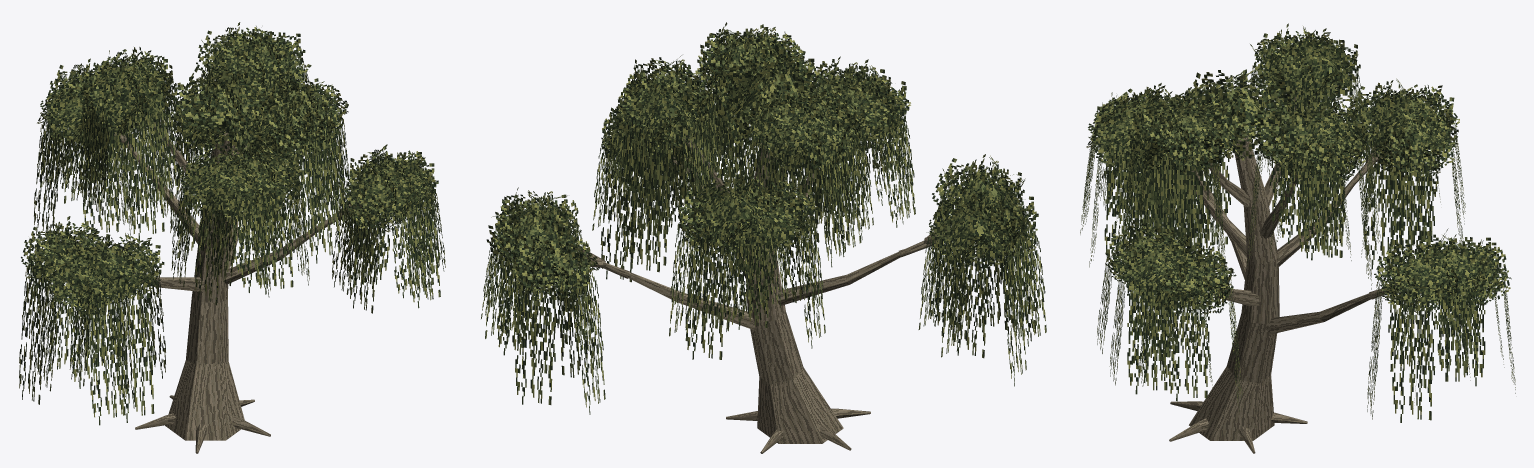
The model's file is TREE_Willow_A_LOD1.glb.
The picture shows the model from 3 angles, left to right: view 1: azimuth 30°, elevation 25°; view 2: azimuth 150°, elevation 25°; view 3: azimuth 270°, elevation 25°; orthographic projection. The views are drawn at different scales.
Parts seen in each view (by area): view 1: TREE_Willow_A_LOD1__Card, TREE_Willow_A_LOD1__Bark, TREE_Willow_A_LOD1__Foliage; view 2: TREE_Willow_A_LOD1__Card, TREE_Willow_A_LOD1__Bark, TREE_Willow_A_LOD1__Foliage; view 3: TREE_Willow_A_LOD1__Card, TREE_Willow_A_LOD1__Bark, TREE_Willow_A_LOD1__Foliage.
Part boxes in pixels (bbox=[...]): TREE_Willow_A_LOD1__Card: bbox=[19, 22, 445, 425]; TREE_Willow_A_LOD1__Bark: bbox=[109, 98, 361, 453]; TREE_Willow_A_LOD1__Foliage: bbox=[50, 47, 407, 288]; TREE_Willow_A_LOD1__Card: bbox=[481, 22, 1046, 414]; TREE_Willow_A_LOD1__Bark: bbox=[577, 128, 968, 453]; TREE_Willow_A_LOD1__Foliage: bbox=[514, 47, 1012, 277]; TREE_Willow_A_LOD1__Card: bbox=[1080, 23, 1515, 422]; TREE_Willow_A_LOD1__Bark: bbox=[1169, 81, 1396, 453]; TREE_Willow_A_LOD1__Foliage: bbox=[1115, 56, 1479, 291].
Bounding box in the file's own units: 10.76 × 8.93 × 9.64.
3 materials, 3 textured.
